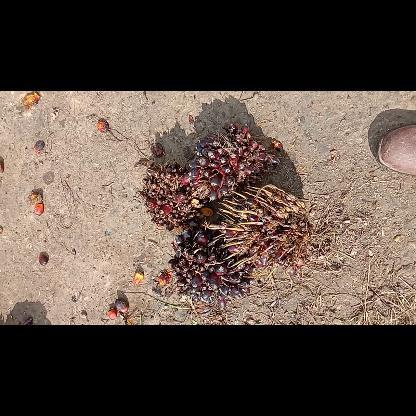TBS abnormal: (205, 184, 307, 278), (188, 124, 276, 200), (167, 226, 249, 306), (136, 161, 202, 229)
